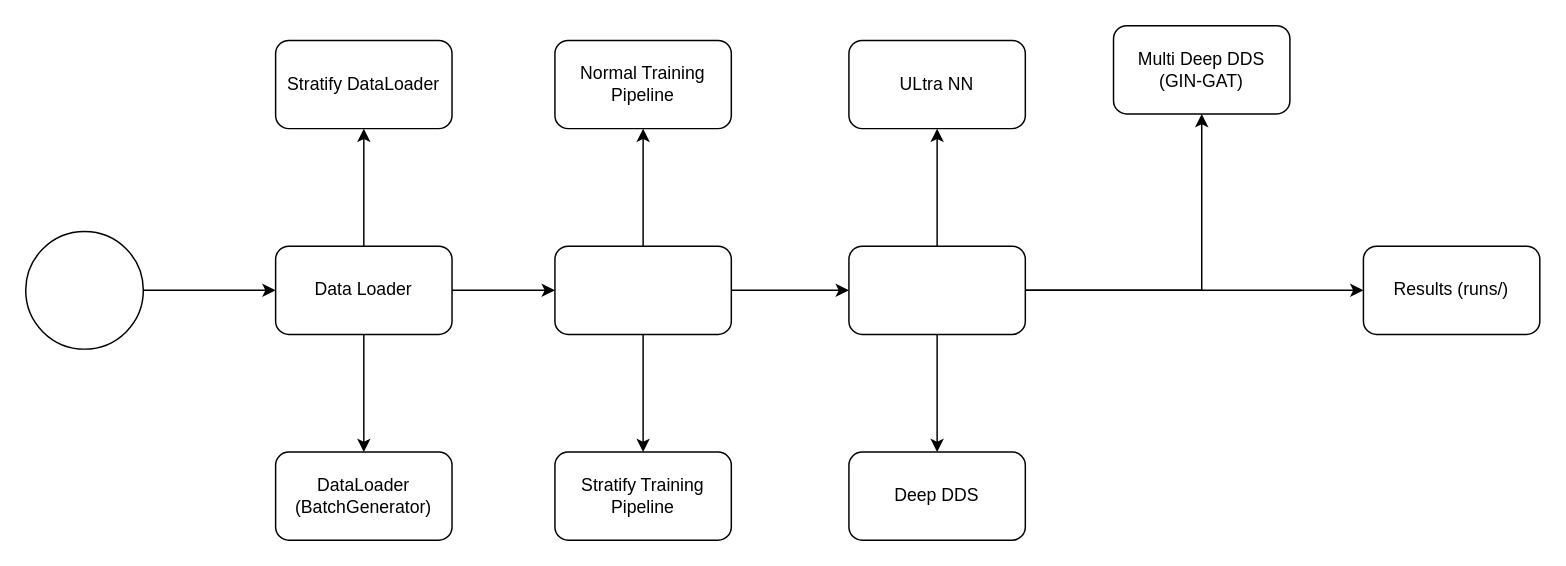
The diagram is 1566 pixels wide and 566 high, and some of its shapes have lost their labels. The shapes that lost their labels are listed below. From the top down, each one's box as (x1, y1, x2, y2) in pixels, then its label:
(24, 230, 143, 349): User args
(553, 245, 731, 334): Training Pipeline
(847, 245, 1025, 334): Model
